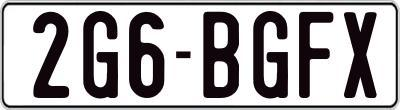2: (33, 10, 75, 99)
6: (127, 9, 167, 98)
B: (202, 12, 242, 104)
F: (298, 9, 332, 98)
G: (251, 8, 291, 96), (83, 10, 118, 101)
X: (342, 9, 381, 97)
